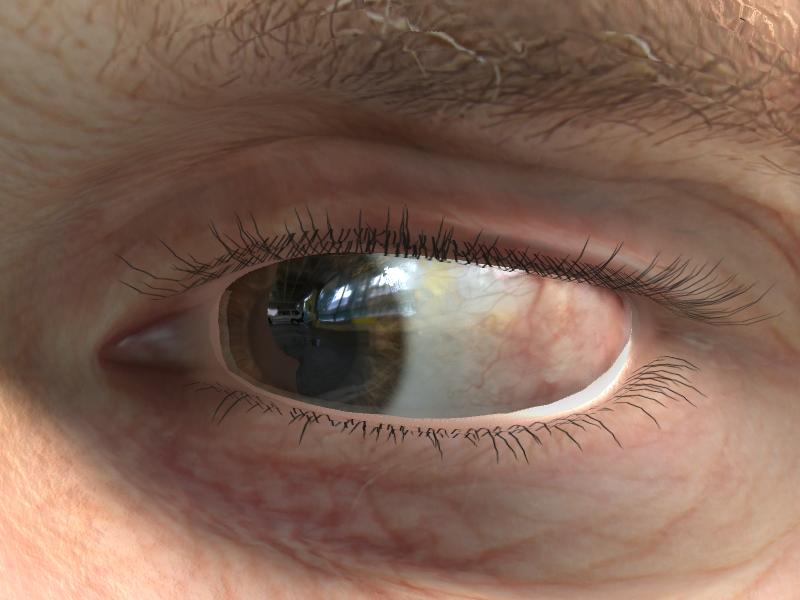eye: (223, 252, 407, 417)
